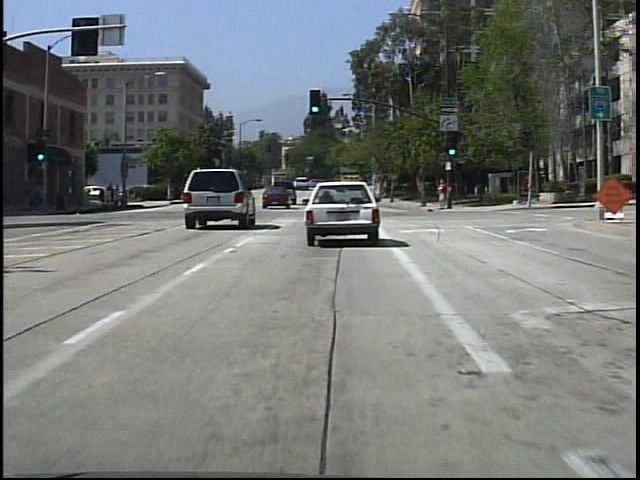person: (432, 173, 449, 211), (107, 180, 118, 210), (119, 182, 120, 209)
